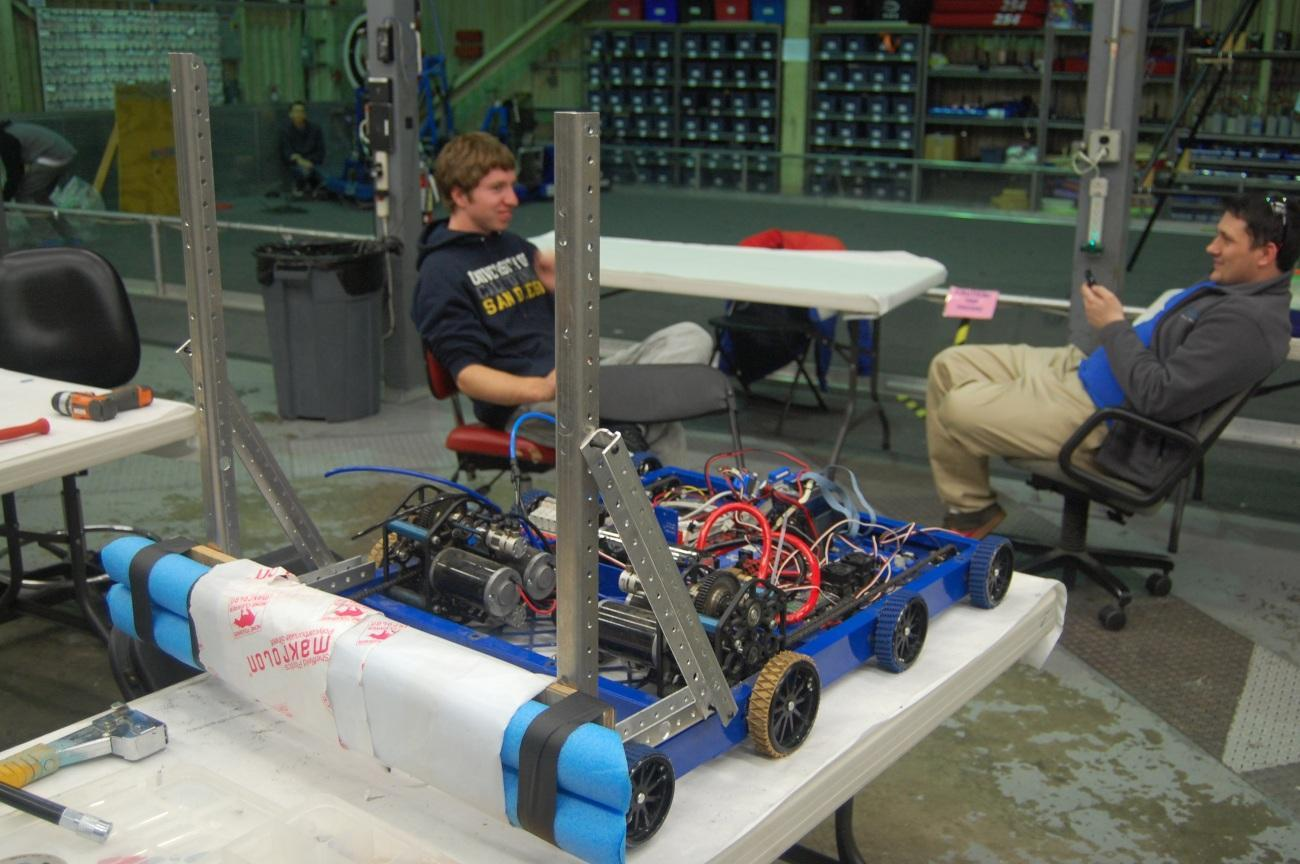robot: (77, 39, 1035, 858)
